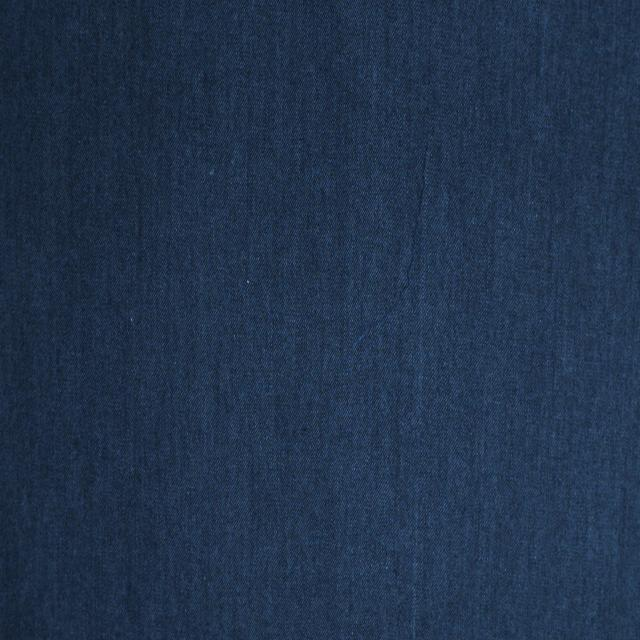defect: (345, 146, 438, 362)
